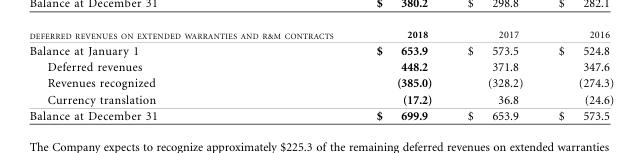table: (28, 28, 613, 121)
table column: (28, 28, 354, 121), (354, 28, 449, 121), (449, 28, 540, 121), (540, 28, 613, 121)
table column header: (28, 28, 613, 41)
table row: (28, 41, 613, 58), (28, 90, 613, 107), (28, 58, 613, 74), (28, 74, 613, 90), (28, 107, 613, 121), (28, 28, 613, 41)
